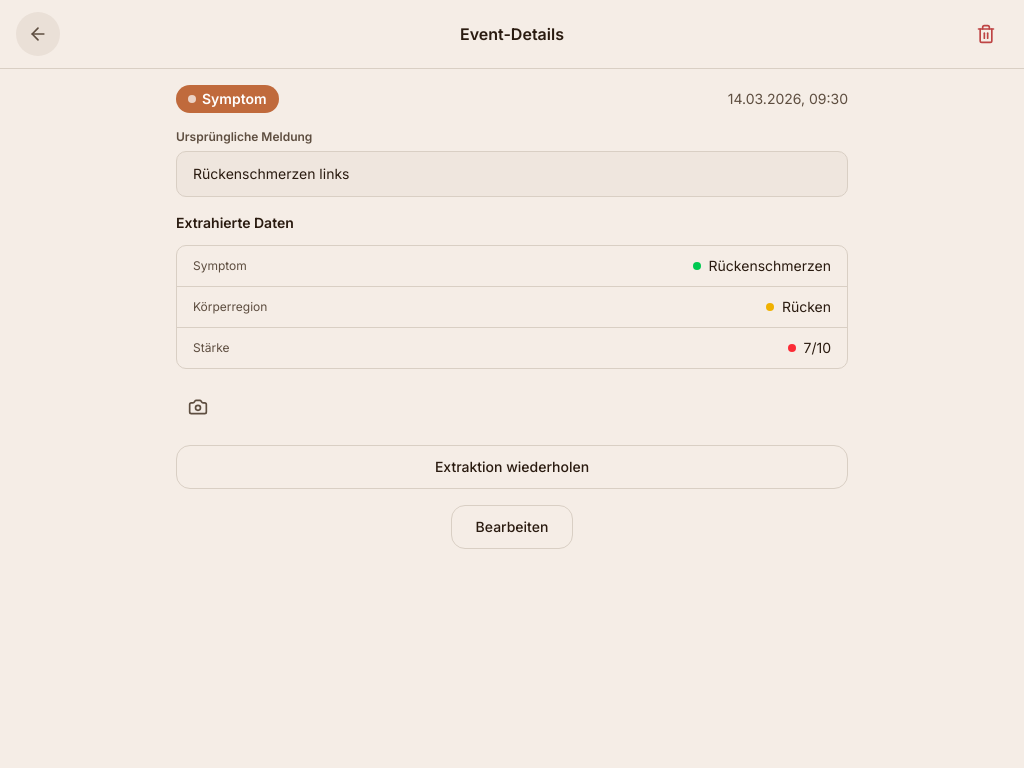
EventDetailView › zeigt Fehlermeldung bei fehlgeschlagenem Re-Run
Click the button "Extraktion wiederholen" at (512, 467), box [176,445,848,489]
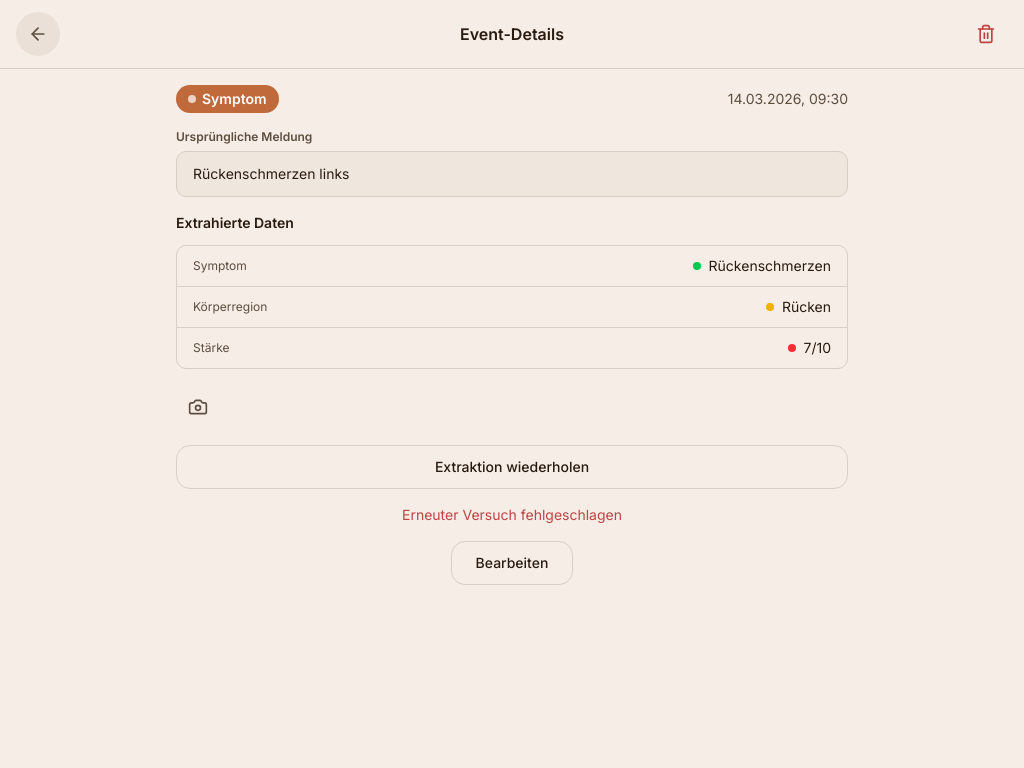
Now the text "Erneuter Versuch fehlgeschlagen" is shown, box [402,506,622,523]
